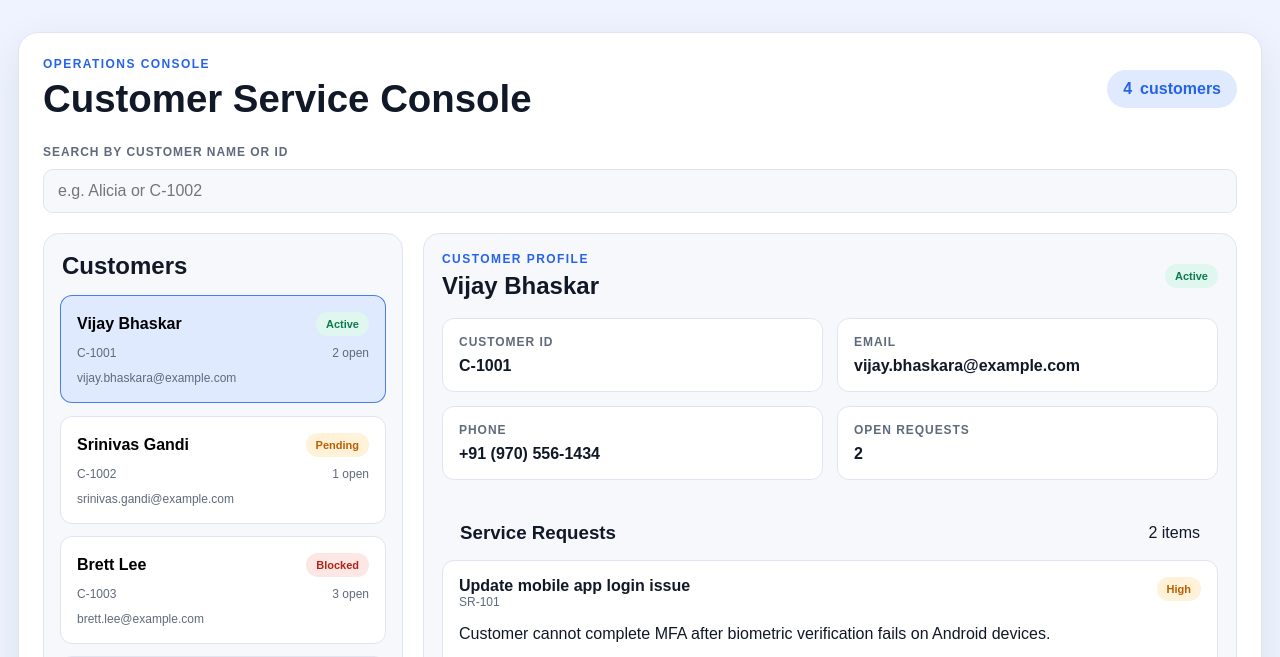
Test case: CustomerConsole › keeps the selected customer details visible when search retains that customer
The image size is (1280, 657).
Check: the heading "Vijay Bhaskar" is shown, box [442,272,599,300]
Type "Vijay" into the field labelled "Search by customer name or ID" at (640, 191), box [43,169,1237,213]
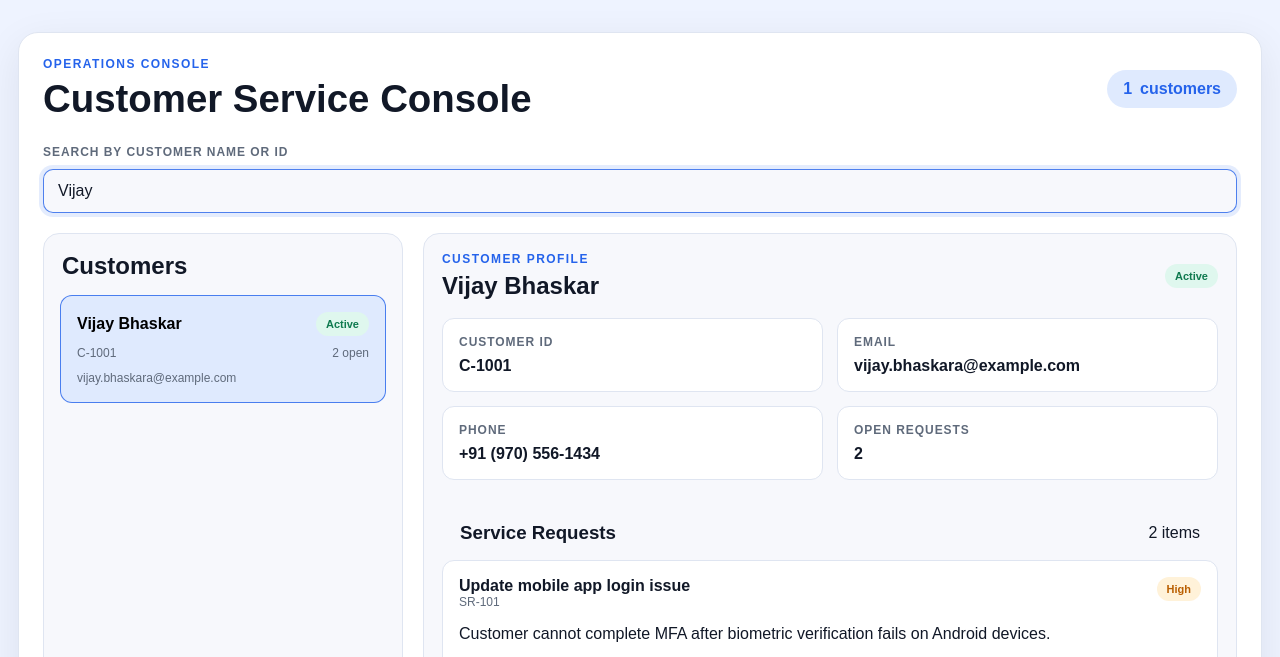
Check: the heading "Vijay Bhaskar" is shown, box [442,272,599,300]
Check: the button "Srinivas Gandi" is gone
